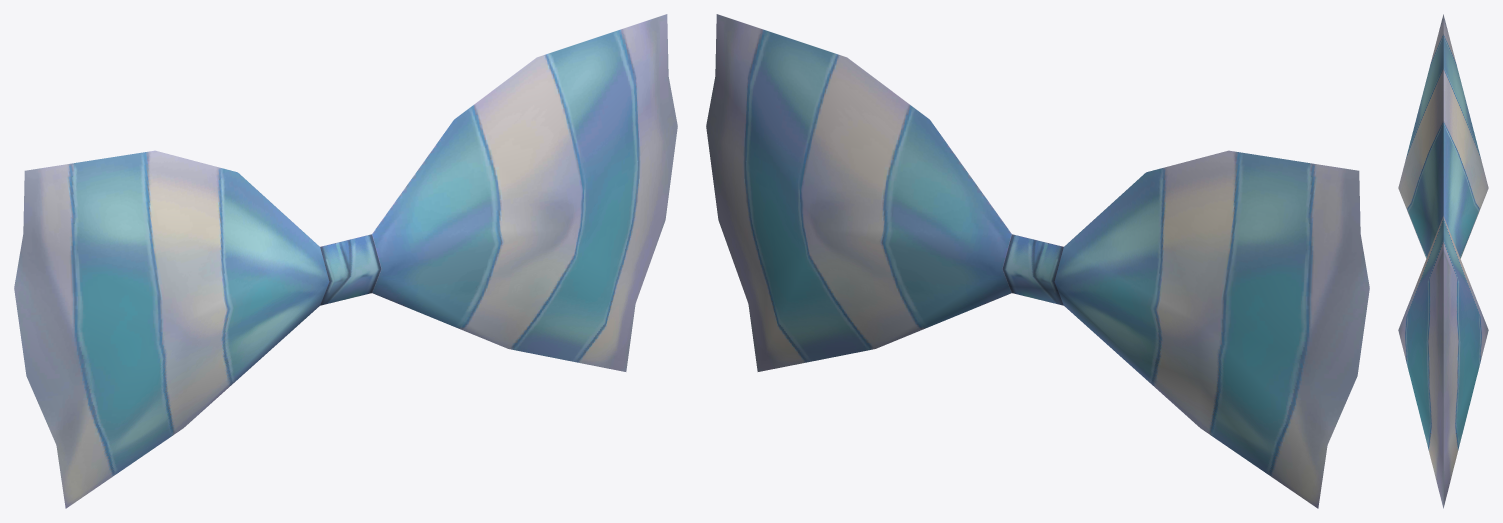
File: accessory_head_ribbon.glb
3 views of the same model, side by side, from view 1: azimuth 30°, elevation 25°; view 2: azimuth 150°, elevation 25°; view 3: azimuth 270°, elevation 25° (orthographic). The views are drawn at different scales.
Visible parts, largest first — view 1: Accessory_Head_Ribbon01; view 2: Accessory_Head_Ribbon01; view 3: Accessory_Head_Ribbon01.
Boxes of the visible parts, x1,y1,x2,y2 form: Accessory_Head_Ribbon01: [14, 14, 677, 508]; Accessory_Head_Ribbon01: [706, 14, 1369, 508]; Accessory_Head_Ribbon01: [1398, 14, 1488, 508].
Size of the model in its own units: 0.00217 by 0.00109 by 0.000333.
Materials: 1 (1 with a texture image).
